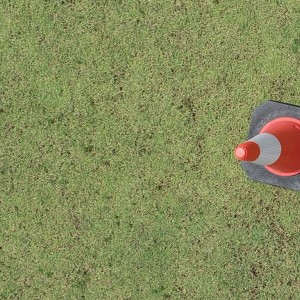traffic cone: (234, 99, 300, 191)
